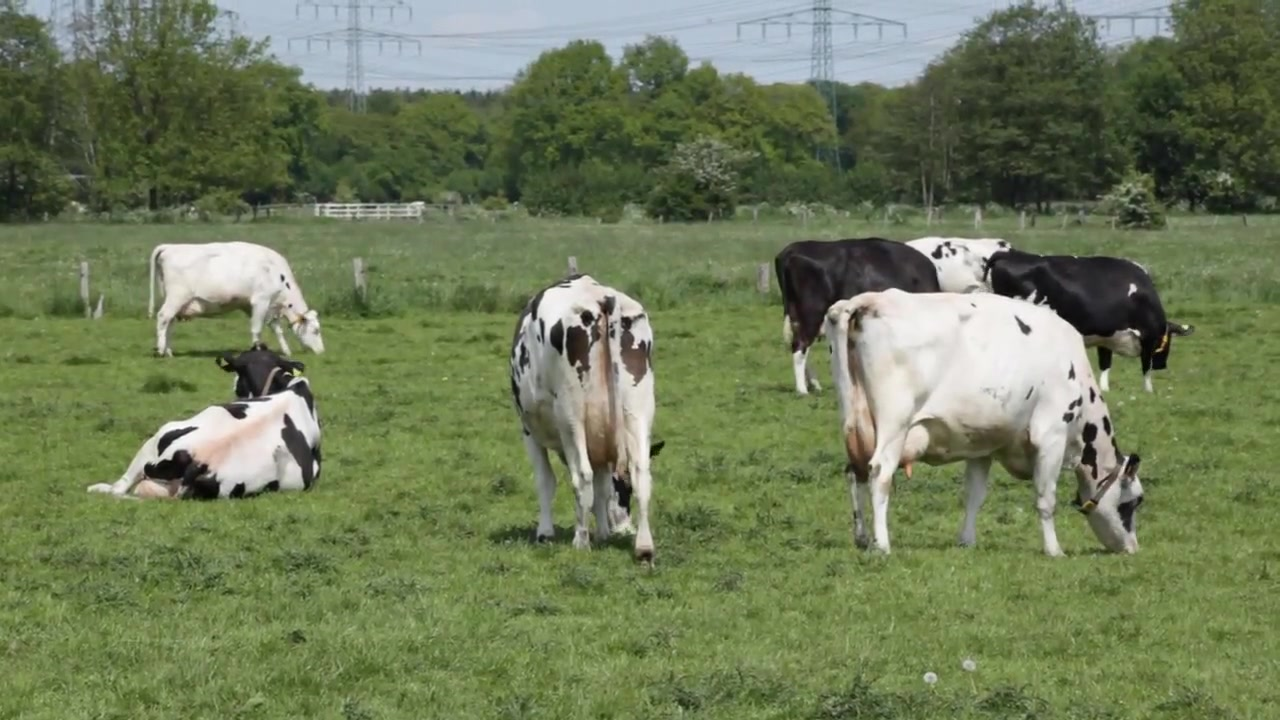cow: (507, 282, 668, 569)
